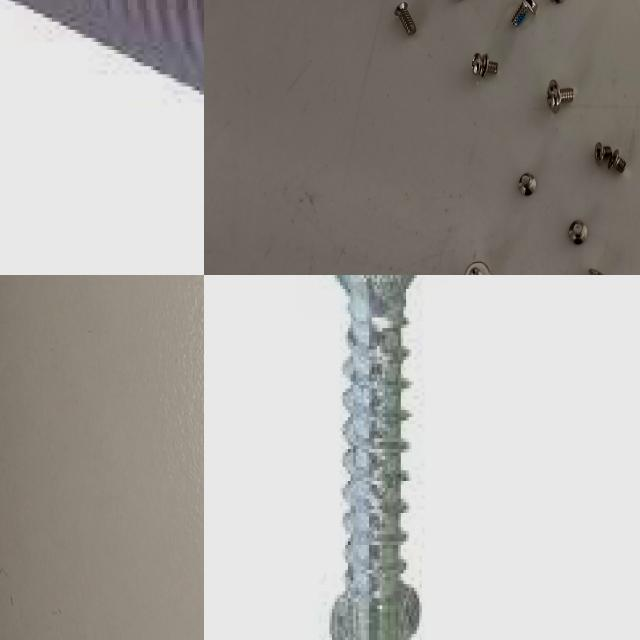Screw: (330, 275, 422, 640), (543, 75, 577, 116), (391, 0, 418, 37), (469, 49, 499, 81), (508, 0, 539, 27), (566, 217, 589, 247), (607, 148, 628, 175), (518, 169, 538, 197), (461, 259, 493, 275), (594, 140, 612, 165), (582, 264, 608, 275)
